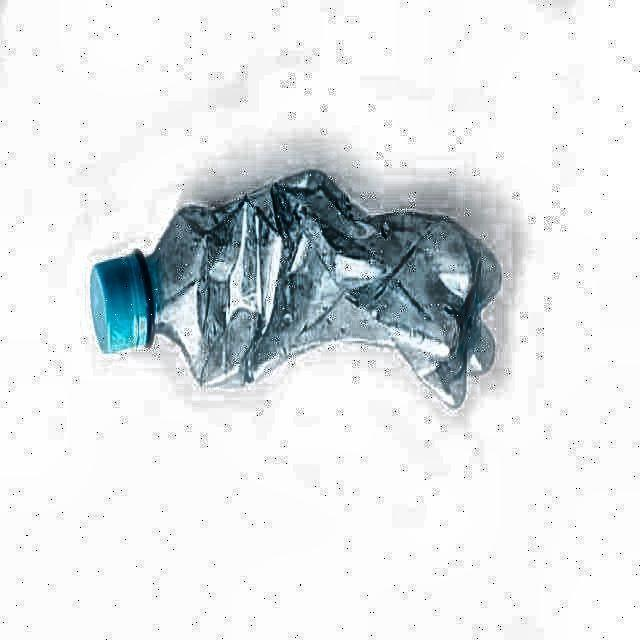plastic: (92, 171, 501, 406)
